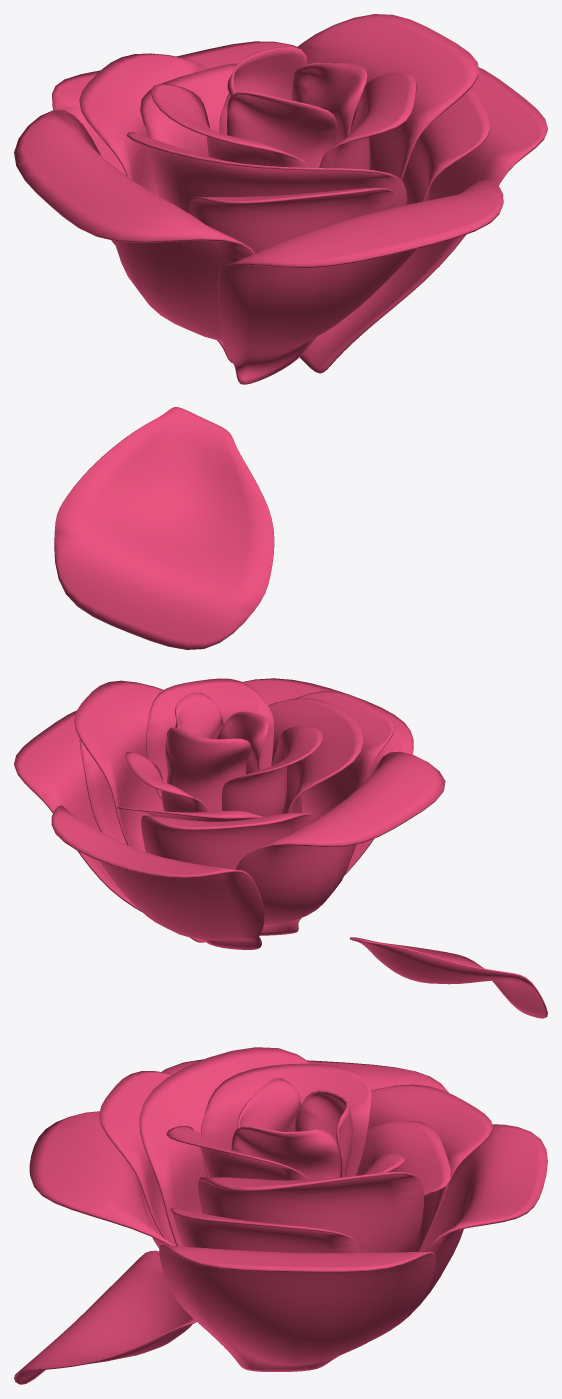
The model's file is flower.gltf.
3 views of the same model, one above another, from view 1: azimuth 30°, elevation 25°; view 2: azimuth 150°, elevation 25°; view 3: azimuth 270°, elevation 25° (orthographic). The views are drawn at different scales.
Parts seen in each view (by area): view 1: Plane.017, Plane.003, Plane.002, Plane.005, Plane.004, Plane.007, Plane.013, Plane.012, Plane.009, Plane.011, Plane.014, Plane.016 (+4 smaller); view 2: Plane.002, Plane, Plane.005, Plane.012, Plane.004, Plane.007, Plane.017, Plane.008, Plane.014, Plane.013, Plane.016, Plane.003 (+5 smaller); view 3: Plane.004, Plane.005, Plane.017, Plane.003, Plane.007, Plane, Plane.016, Plane.012, Plane.011, Plane.013, Plane.006, Plane.010 (+5 smaller).
Part boxes in pixels (x1,y1,x2,y2): Plane.017: (54,407,274,649); Plane.003: (218,180,503,384); Plane.002: (14,110,254,340); Plane.005: (297,14,478,180); Plane.004: (299,67,547,373); Plane.007: (127,132,406,213); Plane.013: (189,187,396,253); Plane.012: (79,53,209,195); Plane.009: (227,91,337,167); Plane.011: (402,87,490,204); Plane.014: (319,72,416,169); Plane.016: (151,84,307,167); Plane.002: (235,751,445,925); Plane: (51,805,264,949); Plane.005: (74,680,163,851); Plane.012: (141,813,314,869); Plane.004: (14,710,204,942); Plane.007: (268,698,363,813); Plane.017: (350,937,547,1018); Plane.008: (165,727,251,811); Plane.014: (146,678,274,799); Plane.013: (295,691,394,818); Plane.016: (221,726,322,816); Plane.003: (243,678,413,935); Plane.004: (159,1245,435,1371); Plane.005: (198,1172,423,1252); Plane.017: (14,1250,196,1384); Plane.003: (29,1111,174,1248); Plane.007: (139,1047,310,1246); Plane: (415,1124,547,1309); Plane.016: (201,1063,371,1177); Plane.012: (368,1084,492,1251); Plane.011: (170,1207,360,1252); Plane.013: (99,1071,176,1245); Plane.006: (356,1121,450,1195); Plane.010: (231,1126,340,1179).
Size of the model in its own units: 7.6 by 5.54 by 6.92.
